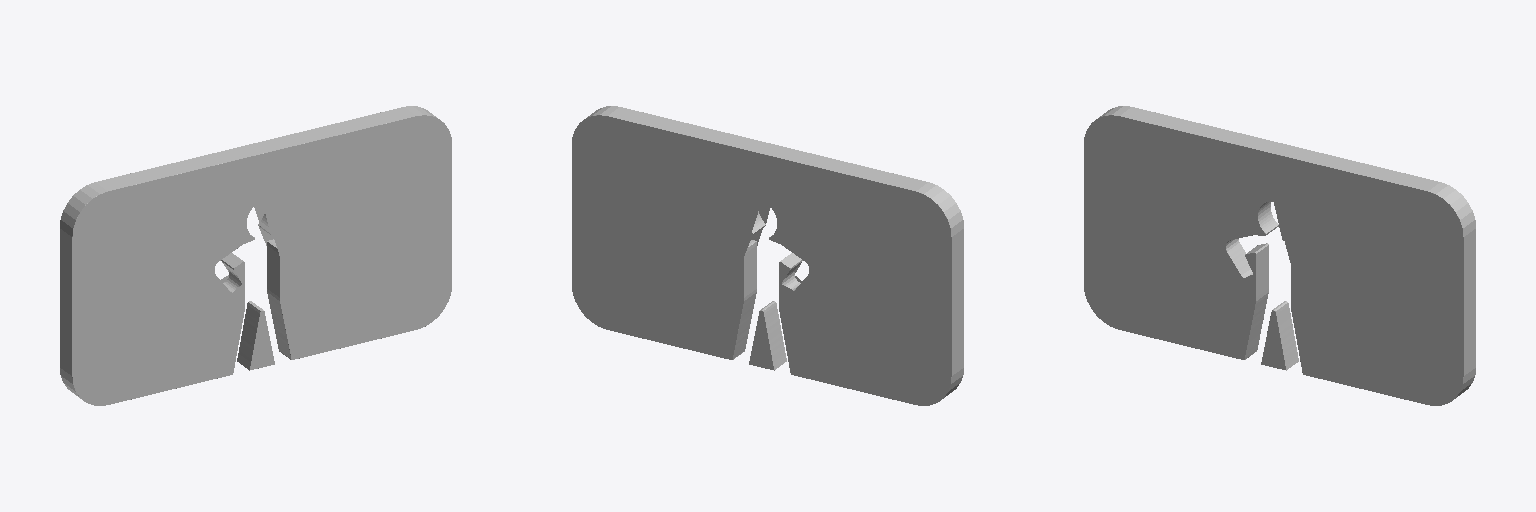
The picture shows the model from 3 angles: view 1: azimuth 30°, elevation 25°; view 2: azimuth 150°, elevation 25°; view 3: azimuth 330°, elevation 25°; orthographic projection.
Parts seen in each view (by area): view 1: POSE13; view 2: POSE13; view 3: POSE13.
Part boxes in pixels (x1,y1,x2,y2): POSE13: (60, 106, 451, 405); POSE13: (572, 106, 963, 405); POSE13: (1084, 106, 1475, 405).
Bounding box in the file's own units: 12 × 6.45 × 0.7.